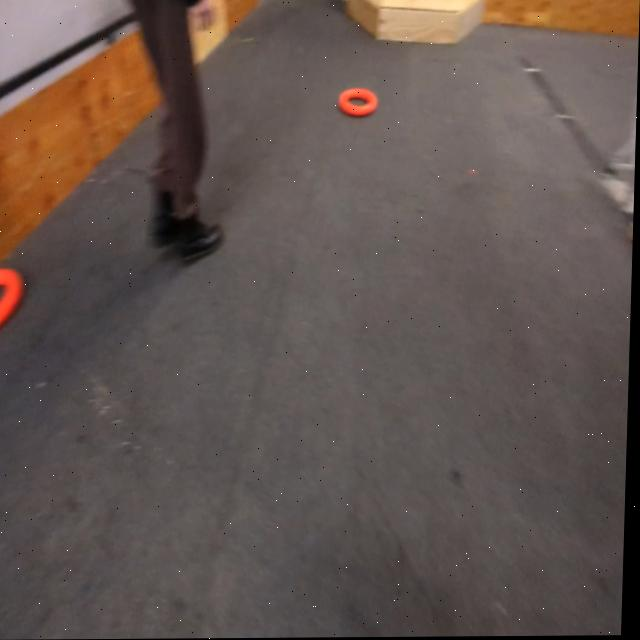note: (0, 267, 26, 354), (338, 87, 380, 119)
